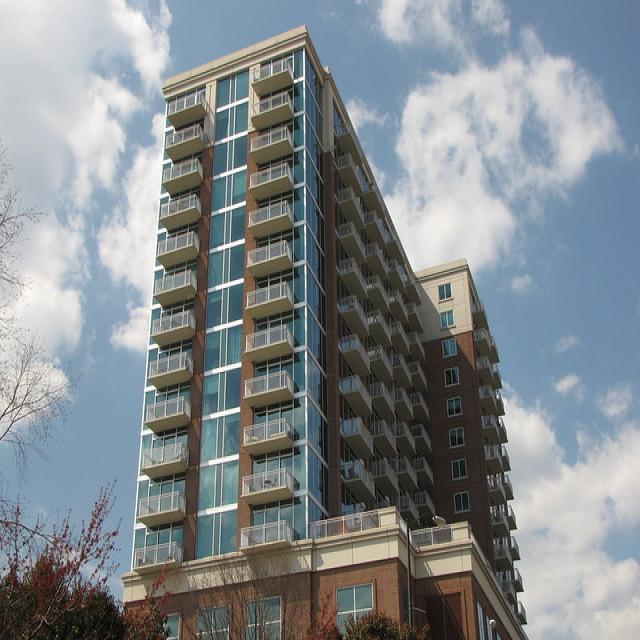Normal_building: (125, 17, 532, 640)
